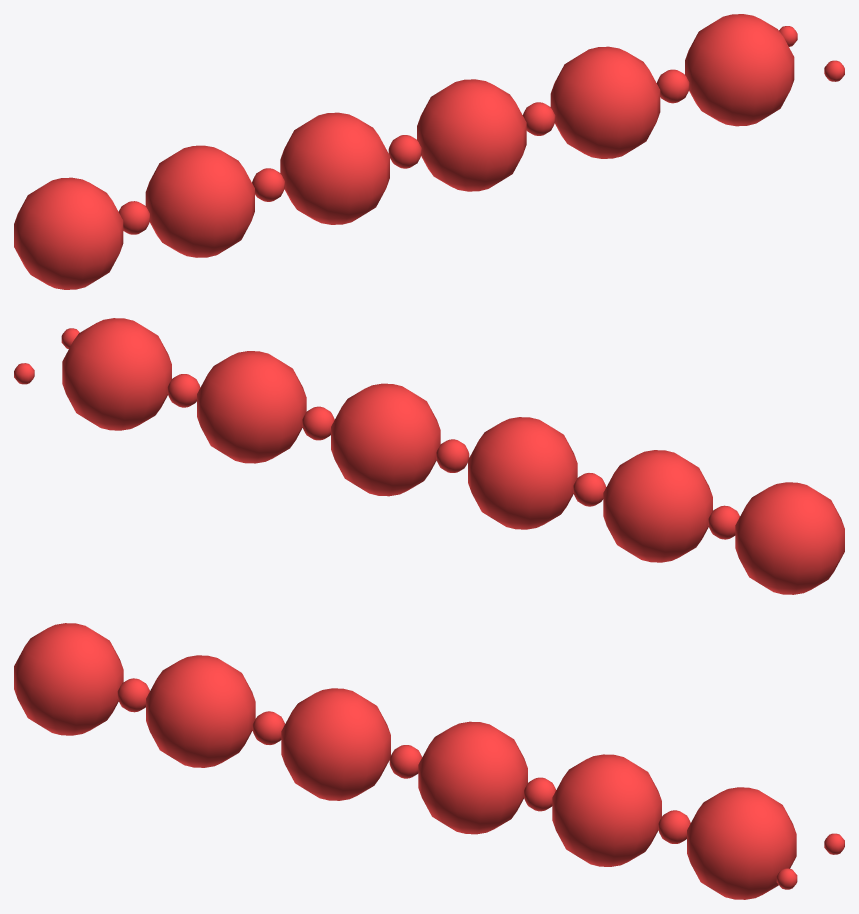
The model's file is coolio.fbx.
3 renders of one model, top to bottom at view 1: azimuth 30°, elevation 25°; view 2: azimuth 150°, elevation 25°; view 3: azimuth 330°, elevation 25°, orthographic.
Visible parts, largest first — view 1: gbody5, gbody, gbody2, gbody4, head, gbody3, mbody3, mbody4, mbody, mbody2, mbody5; view 2: gbody5, gbody4, head, gbody3, gbody, gbody2, mbody3, mbody4, mbody, mbody2, mbody5; view 3: gbody3, gbody4, gbody, gbody2, gbody5, head, mbody3, mbody4, mbody2, mbody, mbody5.
Boxes of the visible parts, bbox=[...] form: gbody5: bbox=[14, 177, 123, 289]; gbody: bbox=[550, 46, 660, 158]; gbody2: bbox=[417, 79, 526, 191]; gbody4: bbox=[145, 145, 254, 257]; head: bbox=[685, 14, 794, 126]; gbody3: bbox=[280, 112, 389, 224]; mbody3: bbox=[388, 135, 421, 168]; mbody4: bbox=[252, 168, 284, 201]; mbody: bbox=[656, 69, 689, 103]; mbody2: bbox=[522, 102, 555, 135]; mbody5: bbox=[118, 201, 149, 234]; gbody5: bbox=[735, 482, 844, 594]; gbody4: bbox=[603, 450, 712, 562]; head: bbox=[62, 318, 171, 430]; gbody3: bbox=[468, 417, 577, 529]; gbody: bbox=[197, 351, 306, 463]; gbody2: bbox=[331, 383, 440, 496]; mbody3: bbox=[436, 439, 469, 472]; mbody4: bbox=[573, 473, 606, 506]; mbody: bbox=[167, 374, 200, 407]; mbody2: bbox=[302, 406, 334, 440]; mbody5: bbox=[708, 505, 739, 539]; gbody3: bbox=[281, 688, 390, 800]; gbody4: bbox=[146, 655, 255, 767]; gbody: bbox=[552, 754, 661, 866]; gbody2: bbox=[418, 721, 527, 834]; gbody5: bbox=[14, 623, 123, 735]; head: bbox=[687, 787, 796, 899]; mbody3: bbox=[389, 745, 421, 778]; mbody4: bbox=[252, 711, 284, 744]; mbody2: bbox=[524, 777, 556, 811]; mbody: bbox=[658, 810, 690, 843]; mbody5: bbox=[117, 678, 149, 712].
Bounding box in the file's own units: 1637 × 200 × 204.
